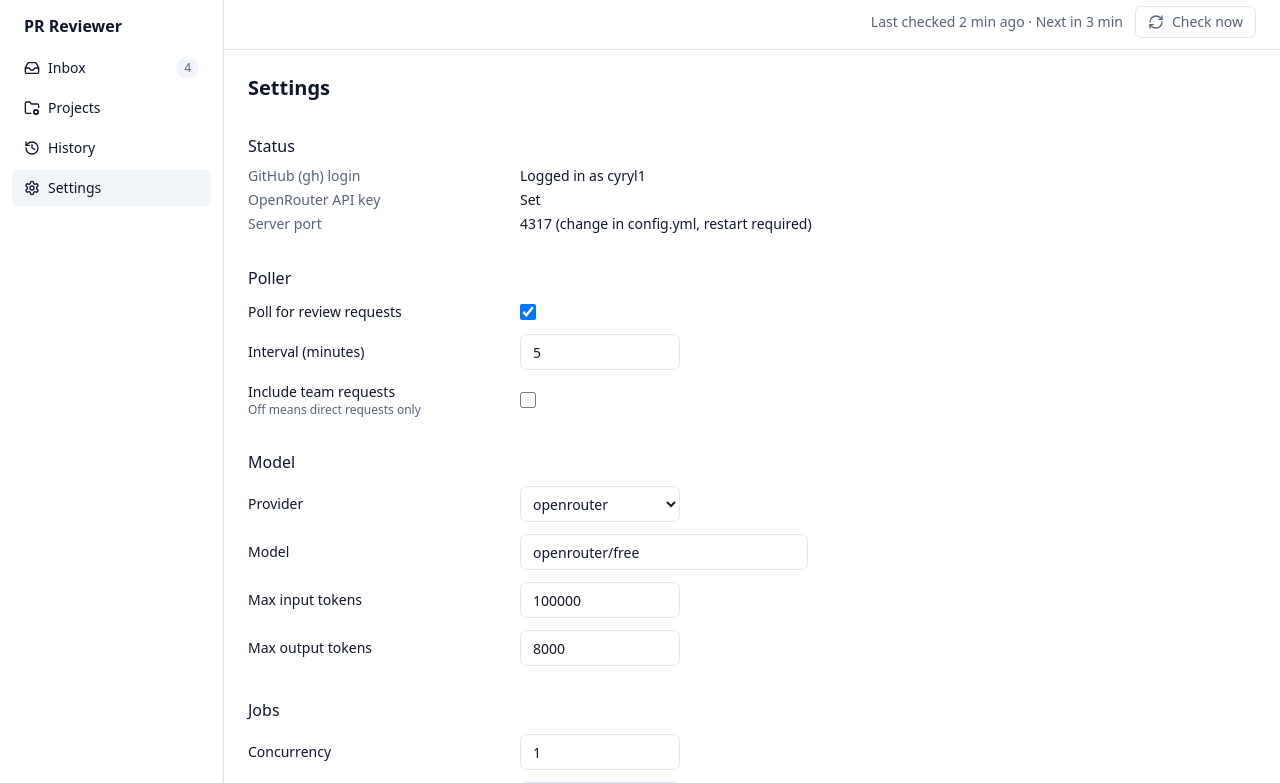
Test: Settings › shows the error toast when saving fails
Replace the text in the number field labelled "Interval (minutes)" with "7" at x=600, y=352, box [520,334,680,370]
(page scrolled)
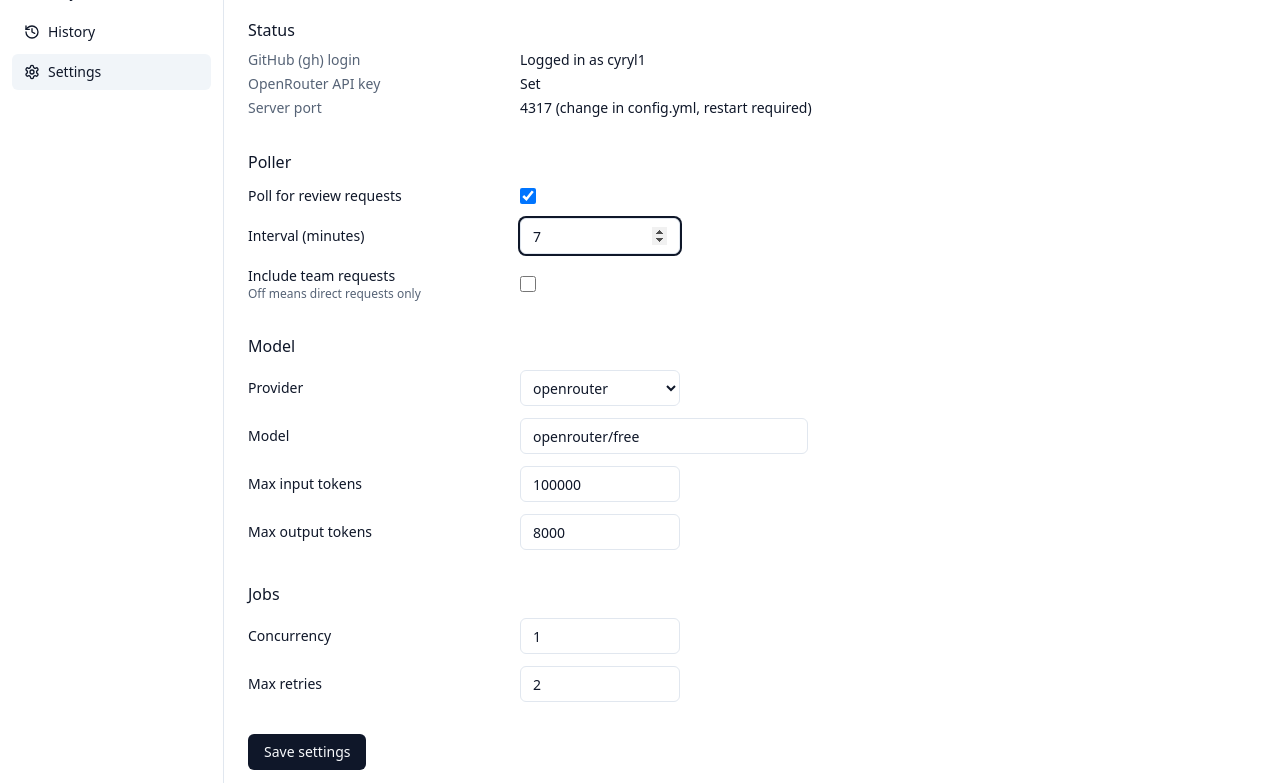
Click the button "Save settings".
click(307, 752)  # box [248,734,366,770]
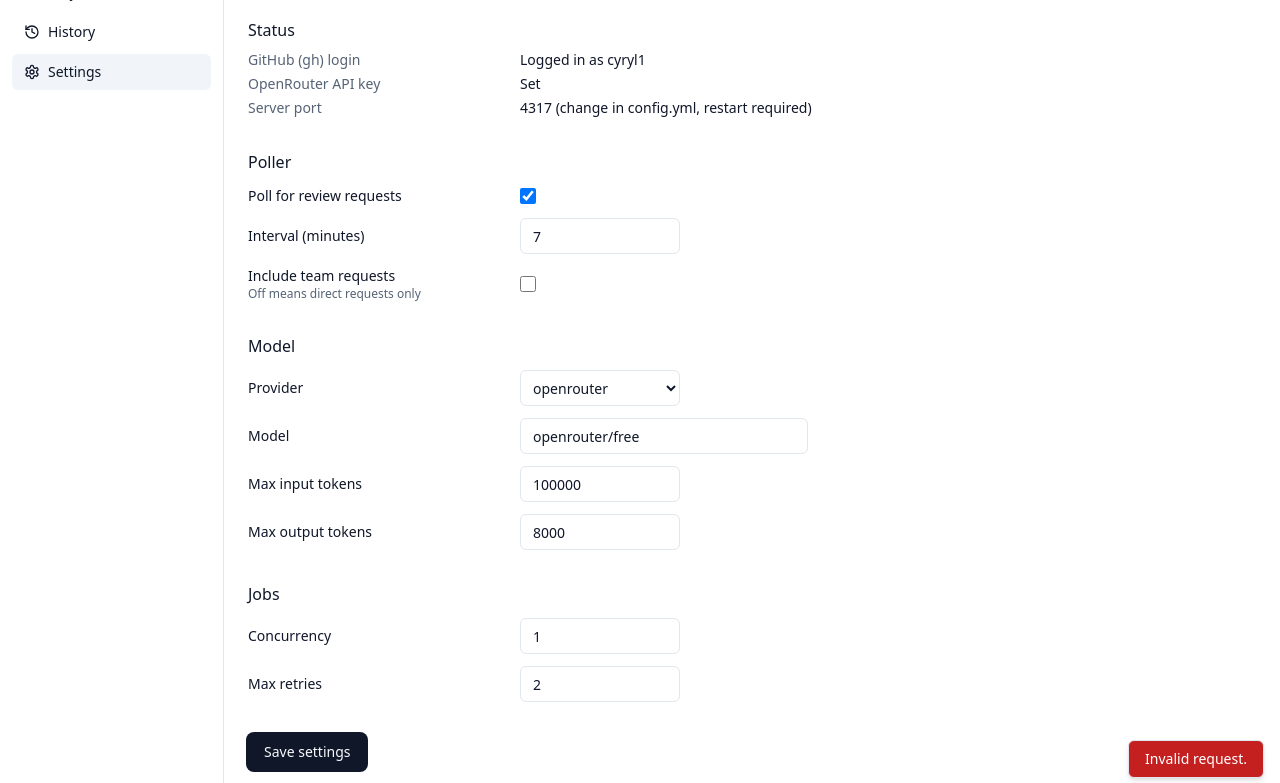
expect the text "Invalid request." is shown: met, box [1128,740,1264,778]
